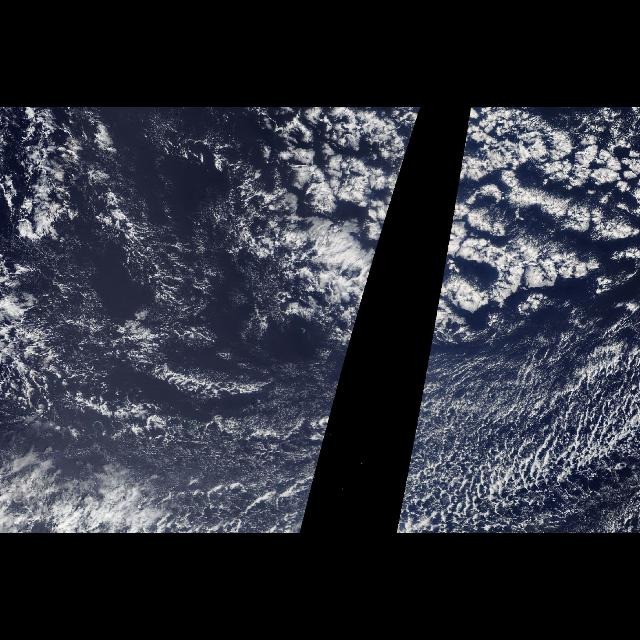Flower: (434, 116, 638, 322), (226, 116, 419, 322)
Gravel: (396, 348, 636, 532), (4, 116, 114, 418)
Sugar: (395, 343, 639, 533), (315, 352, 349, 474)
